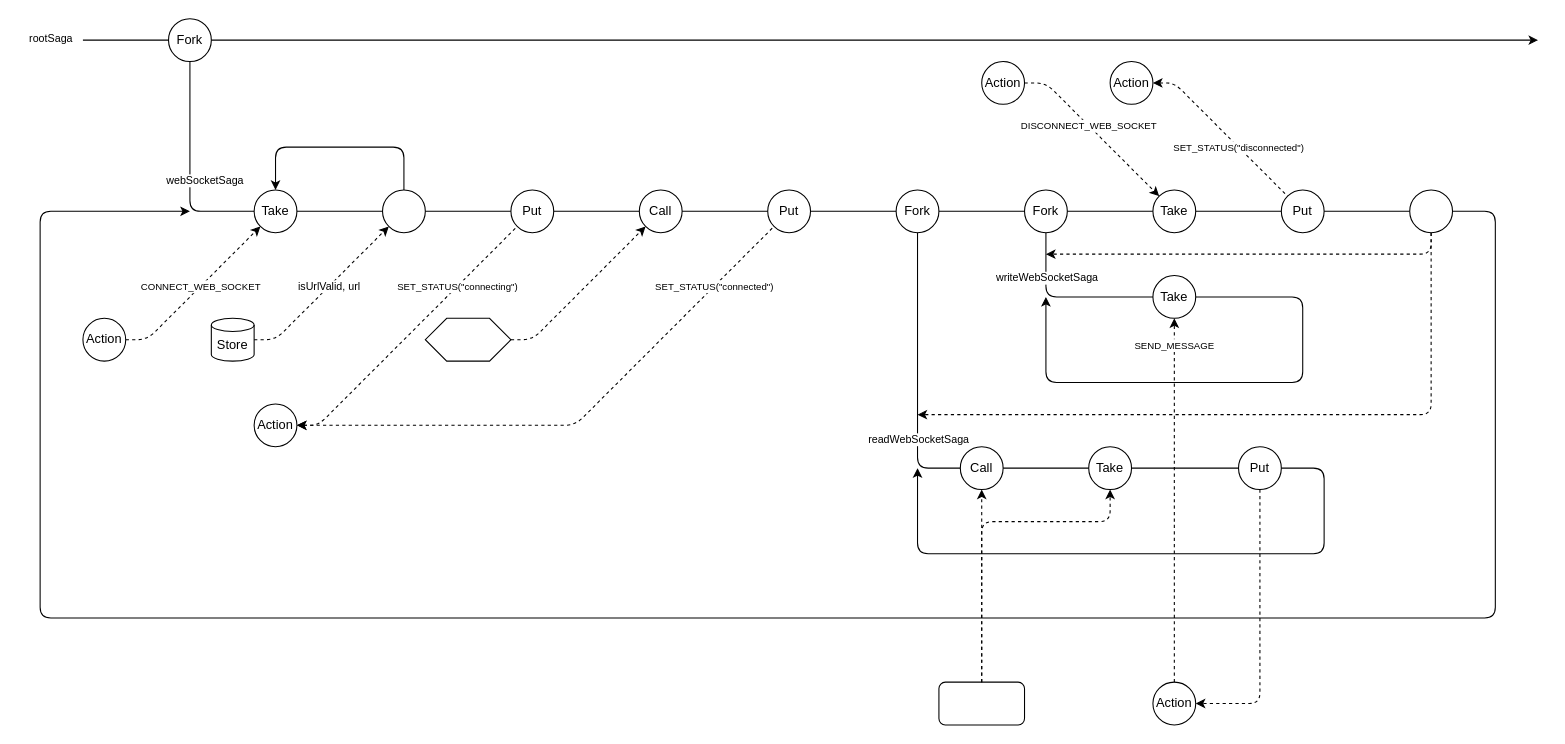
This 1565x744 diagram has some shape labels left out. Each missing label, with the box of its shape:
Cancel: (1409, 189, 1453, 233)
Select: (381, 189, 425, 233)
Socket IO Connection Promise: (424, 317, 511, 361)
Socket IO Event Channel: (938, 681, 1025, 725)
